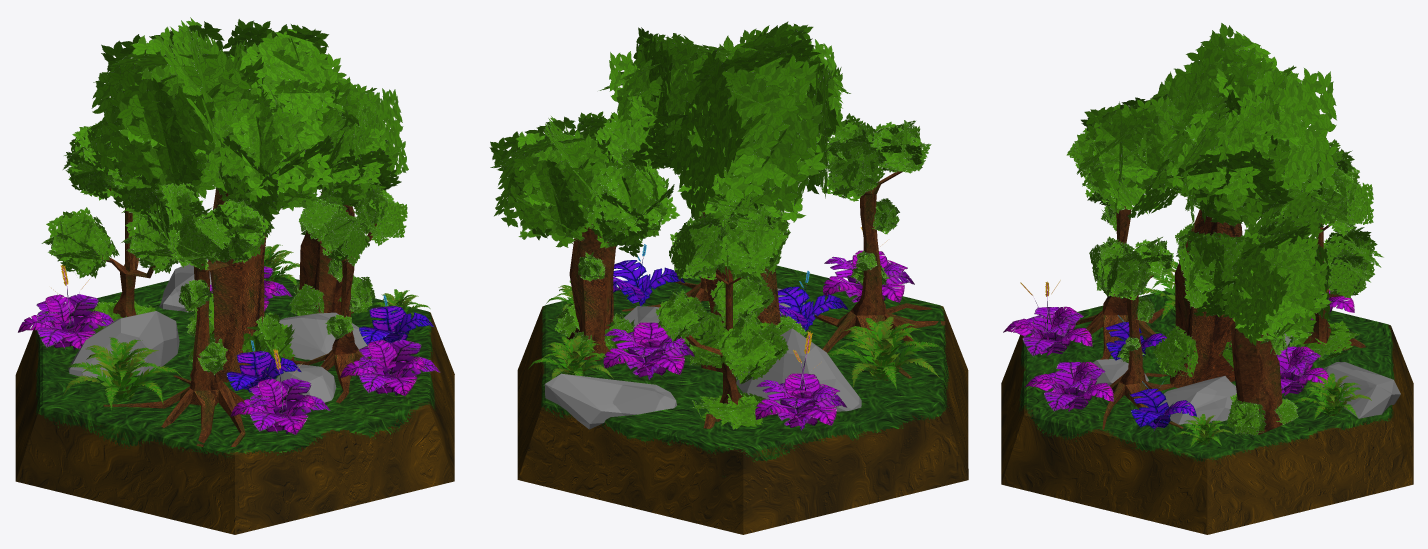
Rendered from joa.obj.
The picture shows the model from 3 angles, left to right: view 1: azimuth 30°, elevation 25°; view 2: azimuth 150°, elevation 25°; view 3: azimuth 270°, elevation 25°; orthographic projection. The views are drawn at different scales.
Visible parts, largest first — view 1: Inaccessible_4; view 2: Inaccessible_4; view 3: Inaccessible_4.
Boxes of the visible parts, left/top/right/bottom form: Inaccessible_4: left=15, top=17, right=454, bottom=534; Inaccessible_4: left=489, top=21, right=968, bottom=534; Inaccessible_4: left=1001, top=23, right=1413, bottom=534.
Bounding box in the file's own units: 1.13 × 1.03 × 0.9841.
Materials: 8 (8 with a texture image).
